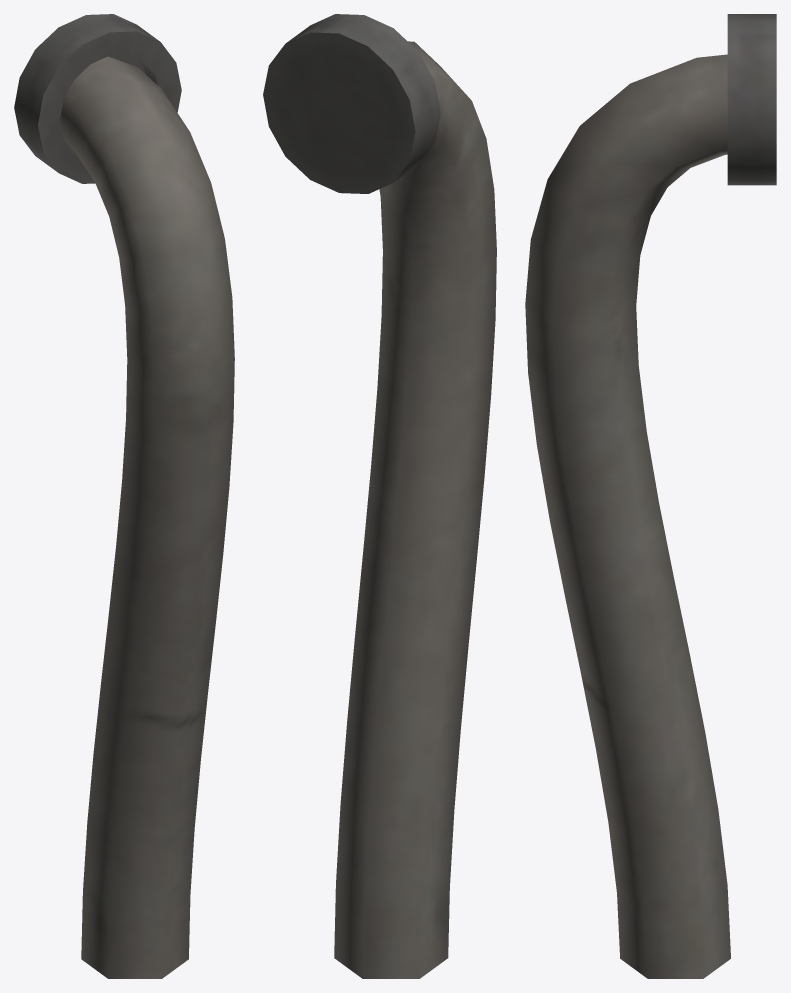
File: cable_end.glb
3 views of the same model, side by side, from view 1: azimuth 30°, elevation 25°; view 2: azimuth 150°, elevation 25°; view 3: azimuth 270°, elevation 25° (orthographic). The views are drawn at different scales.
Parts seen in each view (by area): view 1: cable_end.001; view 2: cable_end.001; view 3: cable_end.001.
Part boxes in pixels (x1,y1,x2,y2): cable_end.001: [14, 14, 234, 978]; cable_end.001: [263, 14, 496, 978]; cable_end.001: [525, 14, 776, 978].
Bounding box in the file's own units: 0.0173 × 0.1045 × 0.0254.
1 material, 1 textured.
